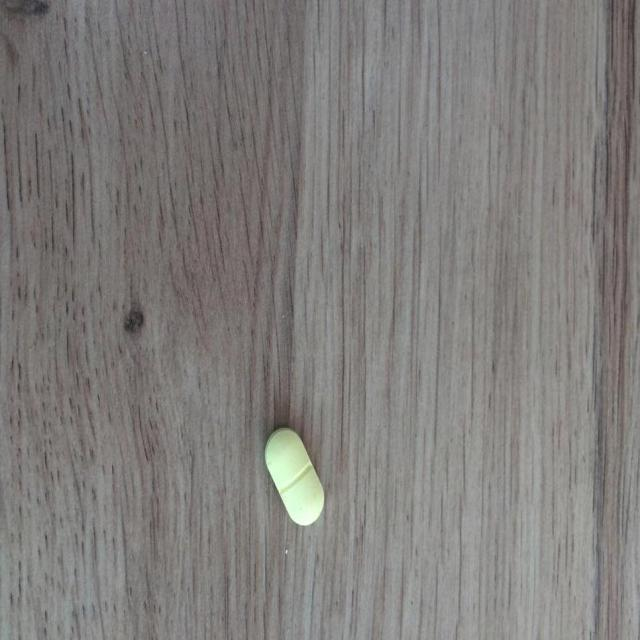pill: (260, 424, 334, 531)
